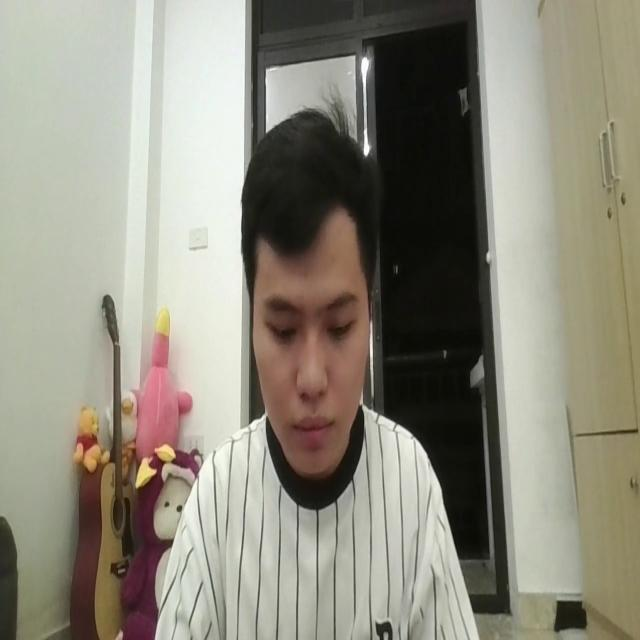student: (154, 102, 476, 640)
